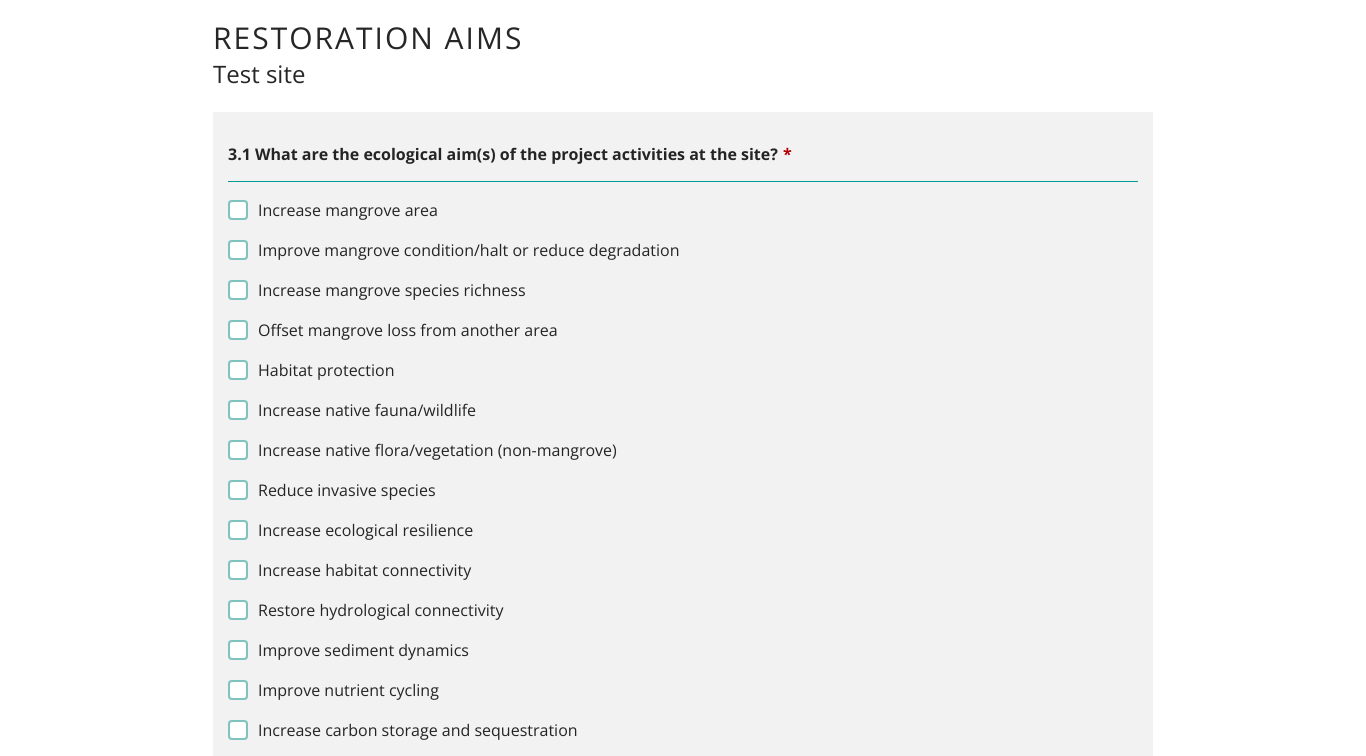
Test: section forms › RestorationAimsForm › asks each stakeholder how they benefit from a checked aim
Click the checkbox named "Increase mangrove area" next to "Increase mangrove area" at coordinates (238, 210), box [228,200,248,220]
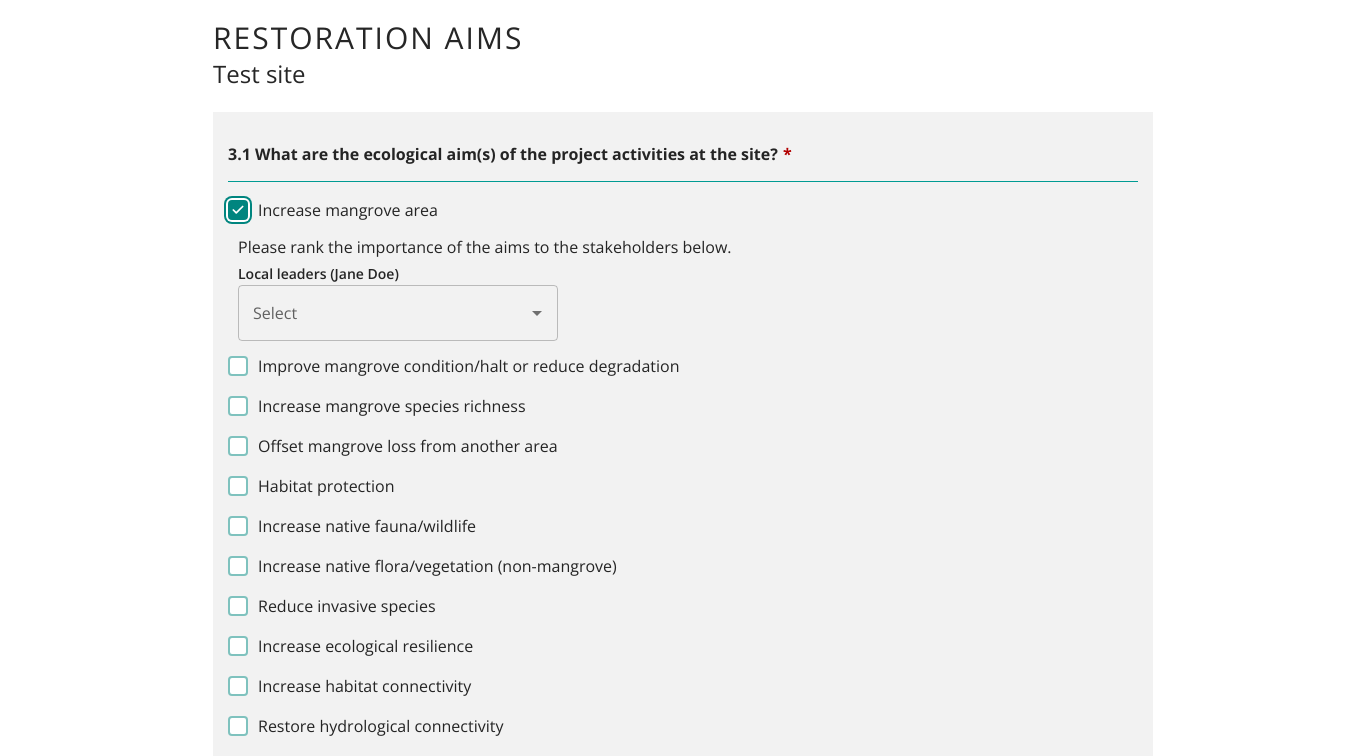
expect the text "Please rank the importance of the aims to the stakeholders below." is shown: met, box [238,236,732,258]
expect the dropdown named "Local leaders (Jane Doe)" is shown: met, box [238,285,558,341]
